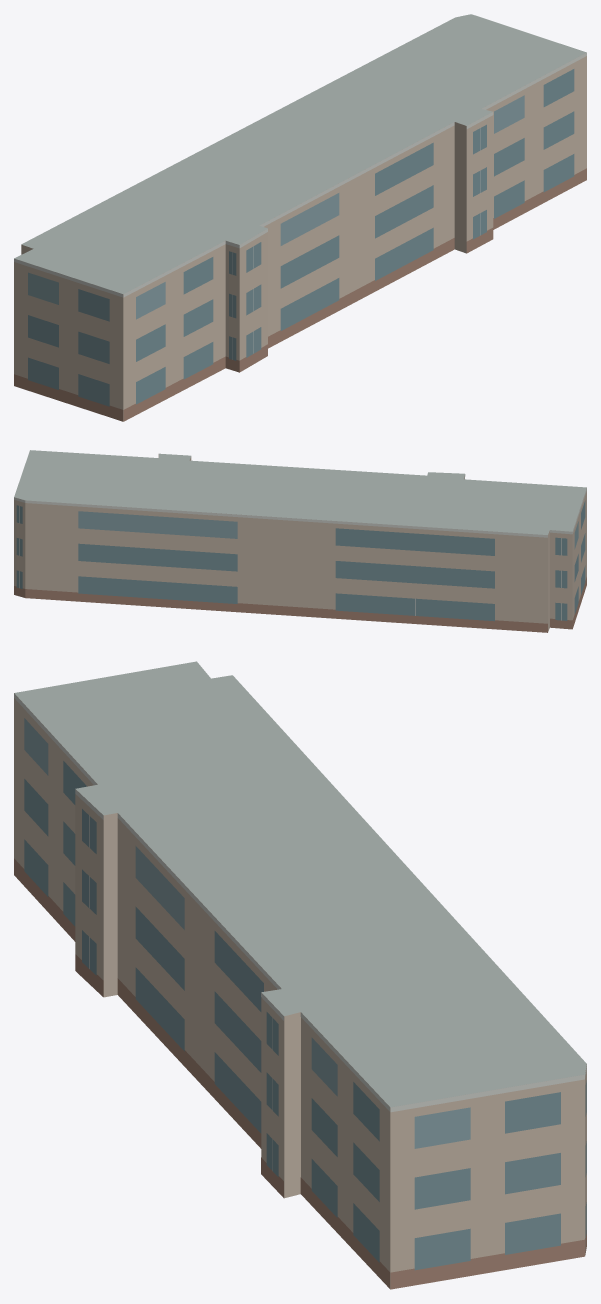
Rendered from survey-upis-32826324.glb.
3 renders of one model, top to bottom at view 1: azimuth 30°, elevation 25°; view 2: azimuth 150°, elevation 25°; view 3: azimuth 270°, elevation 25°, orthographic. The views are drawn at different scales.
Parts seen in each view (by area): view 1: survey-upis-32826324.tmp; view 2: survey-upis-32826324.tmp; view 3: survey-upis-32826324.tmp.
Boxes of the visible parts, box(x1,y1,x2,y2) form: survey-upis-32826324.tmp: box(14, 14, 586, 421); survey-upis-32826324.tmp: box(14, 450, 586, 632); survey-upis-32826324.tmp: box(14, 661, 586, 1289).
Size of the model in its own units: 48.1 by 9.15 by 26.11.
